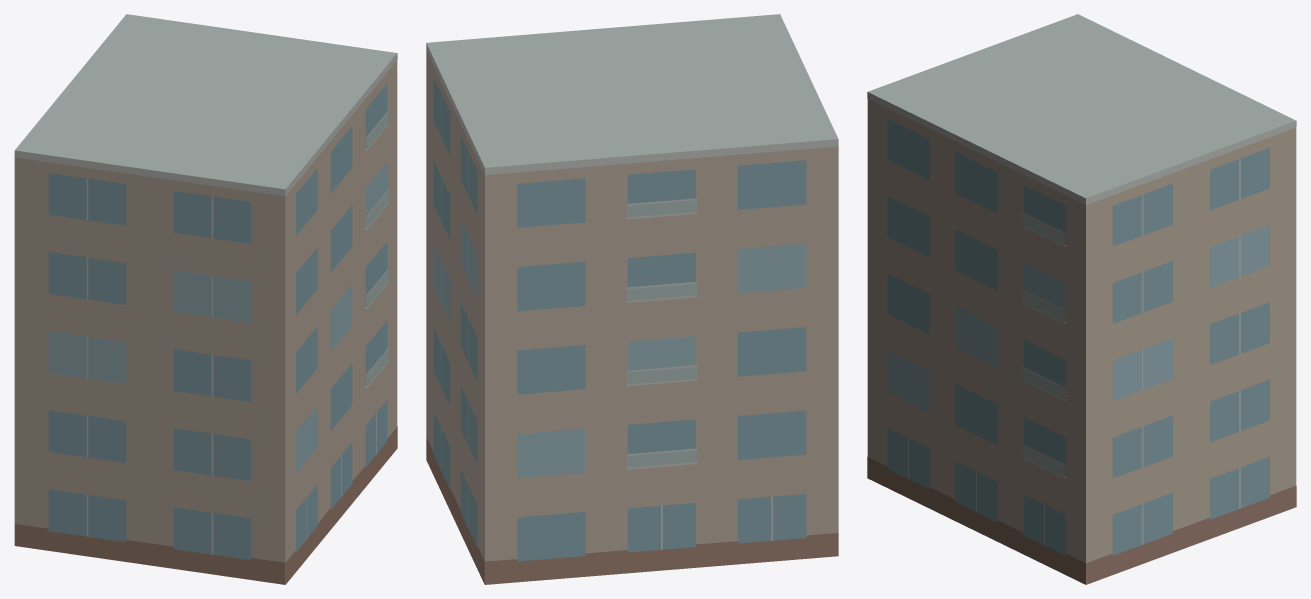
File: survey-upis-32692437.glb
3 renders of one model, left to right at view 1: azimuth 30°, elevation 25°; view 2: azimuth 150°, elevation 25°; view 3: azimuth 270°, elevation 25°, orthographic. The views are drawn at different scales.
Parts seen in each view (by area): view 1: survey-upis-32692437.tmp; view 2: survey-upis-32692437.tmp; view 3: survey-upis-32692437.tmp.
Part boxes in pixels (left/top/right/bottom): survey-upis-32692437.tmp: left=14, top=14, right=397, bottom=584; survey-upis-32692437.tmp: left=426, top=14, right=838, bottom=584; survey-upis-32692437.tmp: left=867, top=14, right=1296, bottom=584.
Size of the model in its own units: 14.19 by 13.85 by 13.94.
